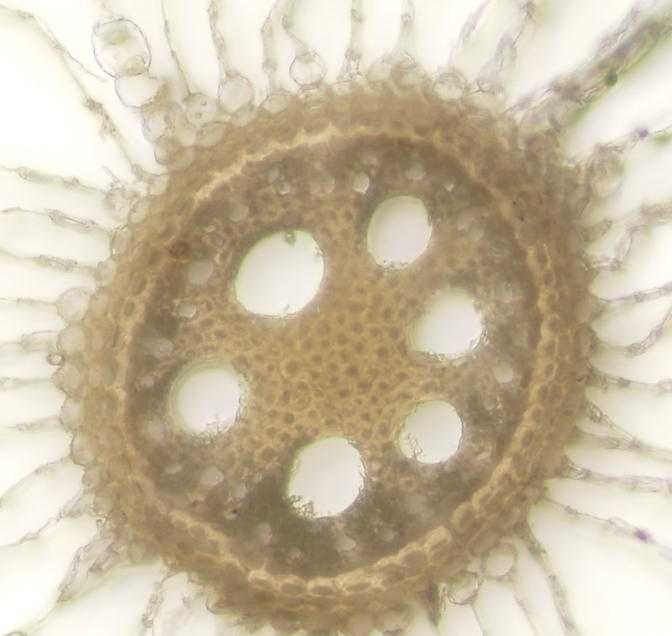lm: (233, 228, 325, 316), (286, 436, 365, 521), (168, 358, 247, 438), (409, 287, 484, 356), (366, 195, 432, 268), (397, 398, 462, 464)
